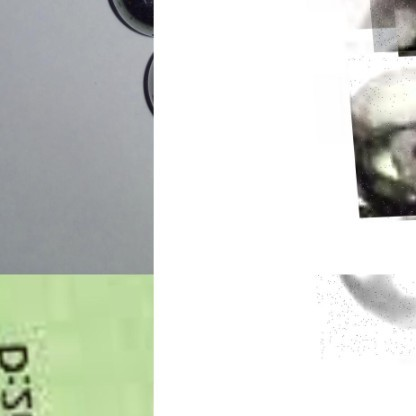ironball: (346, 52, 415, 221), (305, 274, 415, 360), (367, 0, 415, 53)
